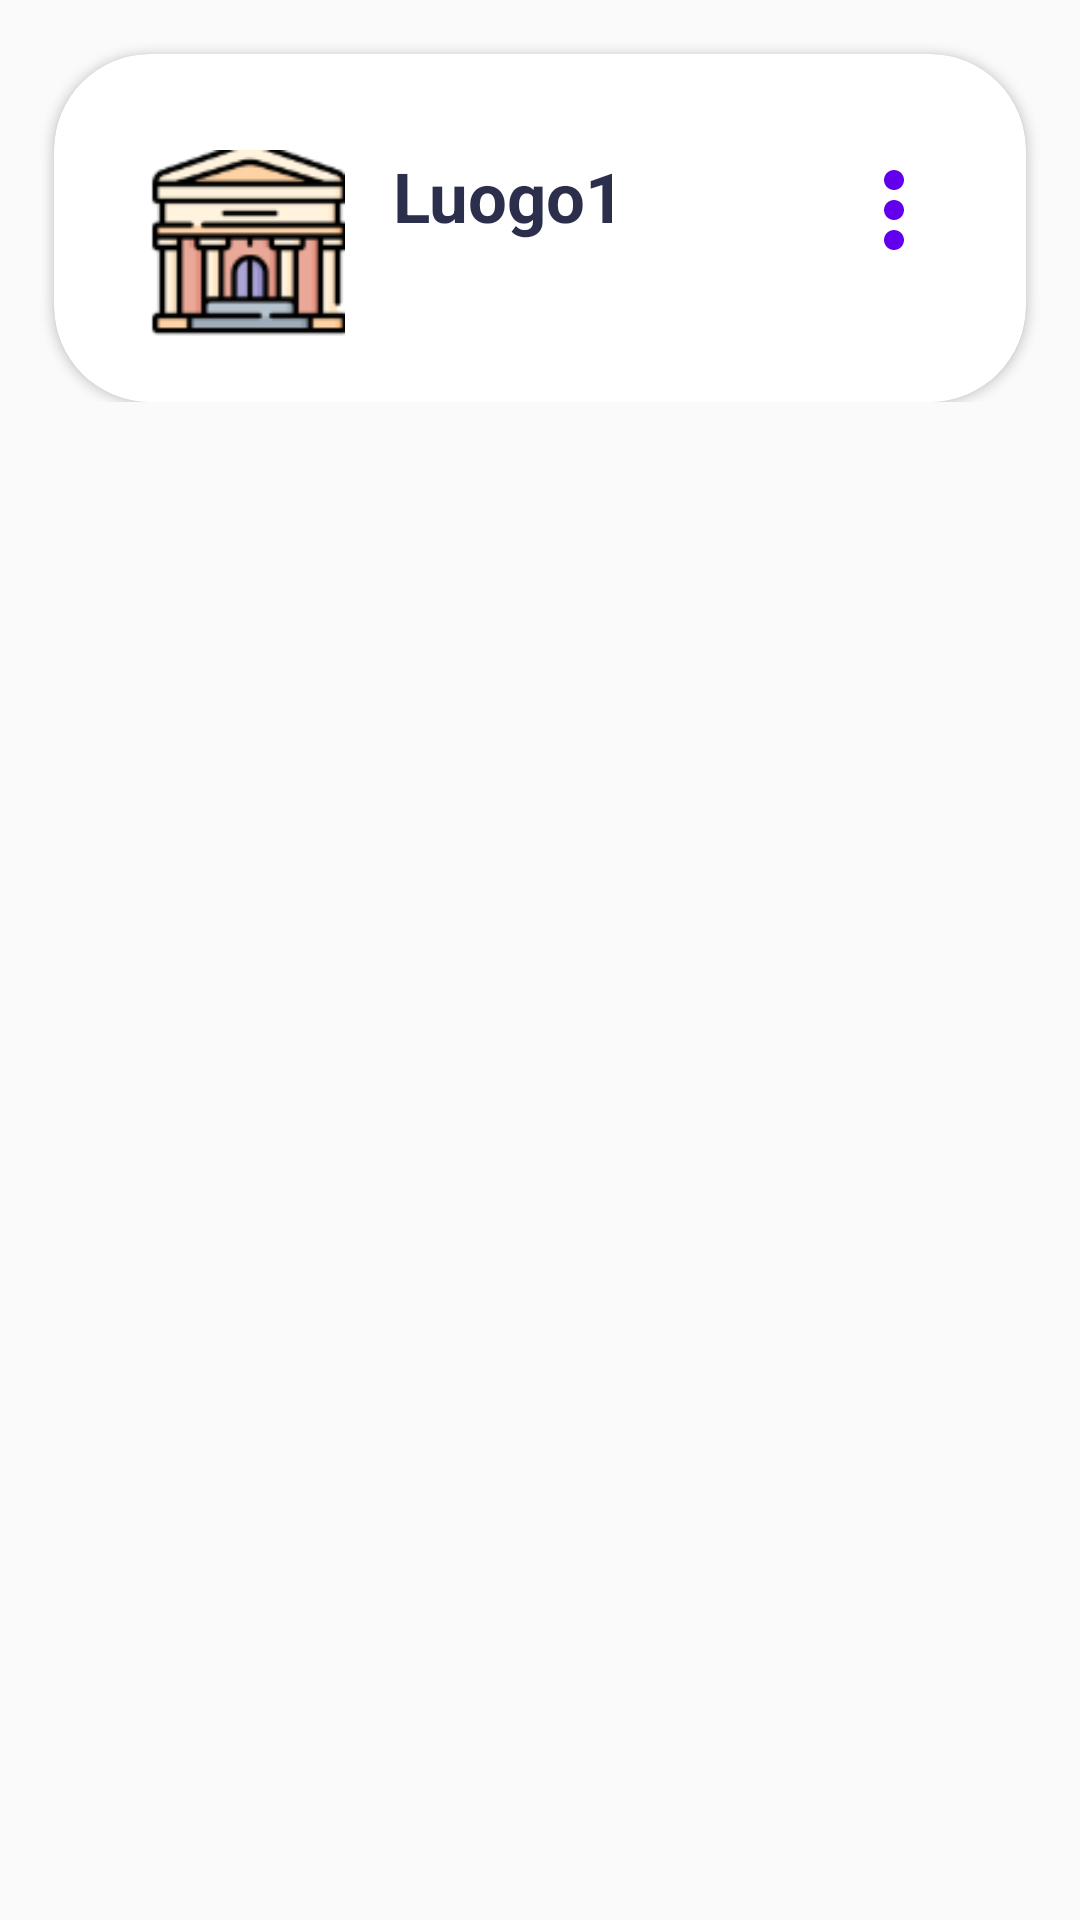

Icon click points for this 1080w x 1920h phone screenshot, format point (x, y):
more vert: point (894, 210)
